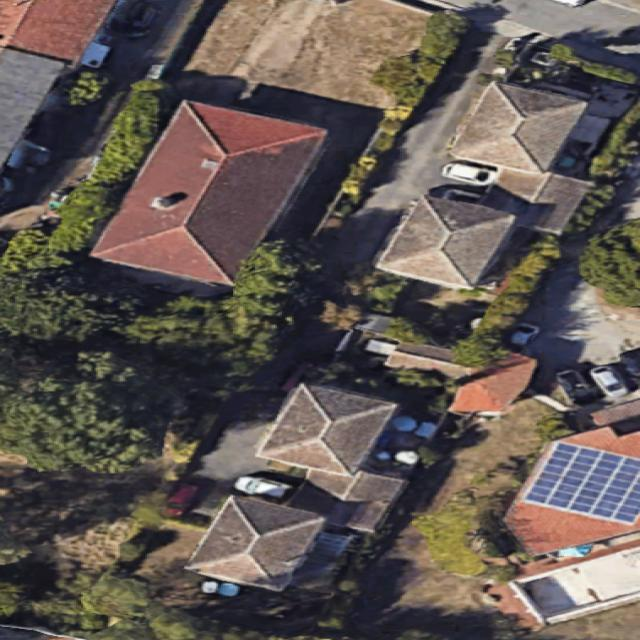maison: (81, 54, 335, 331), (185, 486, 323, 602), (257, 377, 397, 484), (375, 188, 516, 294), (450, 78, 587, 179), (554, 125, 557, 126)
